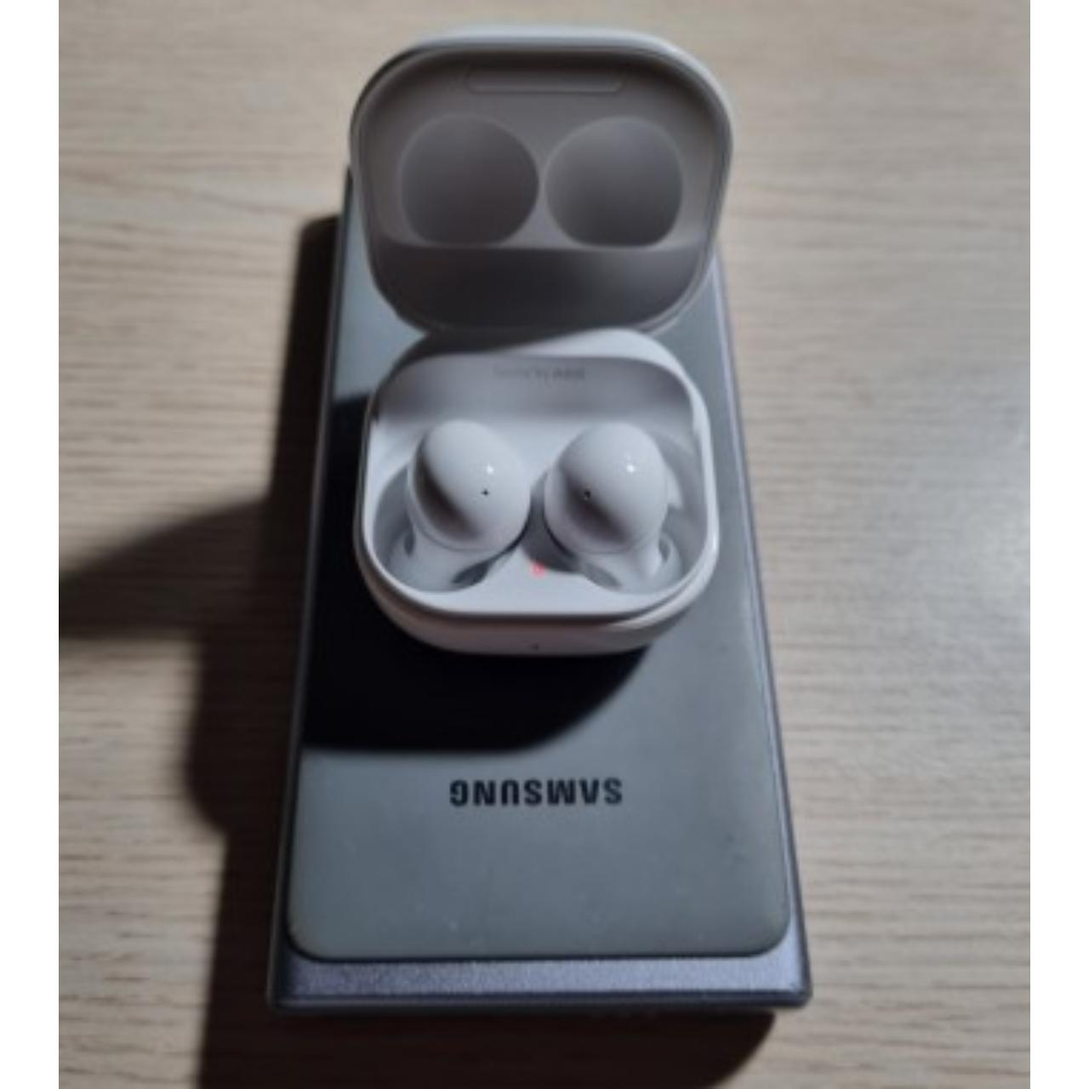Buds: (339, 26, 736, 661)
Buds_Units: (378, 415, 534, 598), (539, 415, 688, 598)
